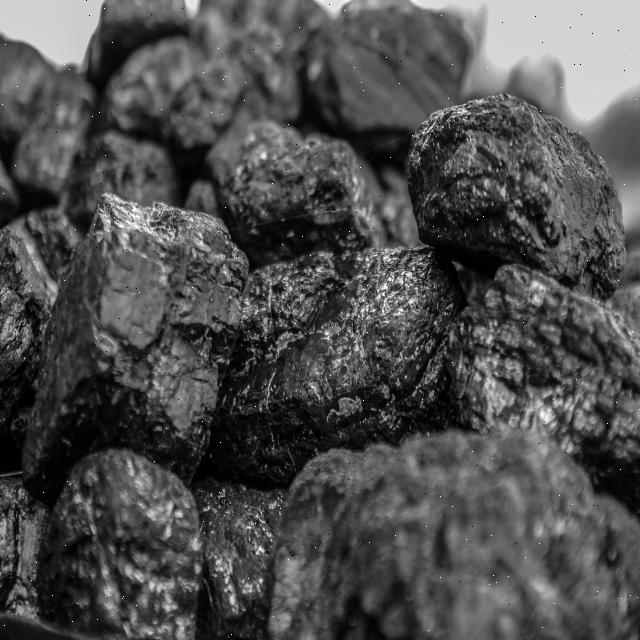Sedimentary: (2, 98, 640, 640)
